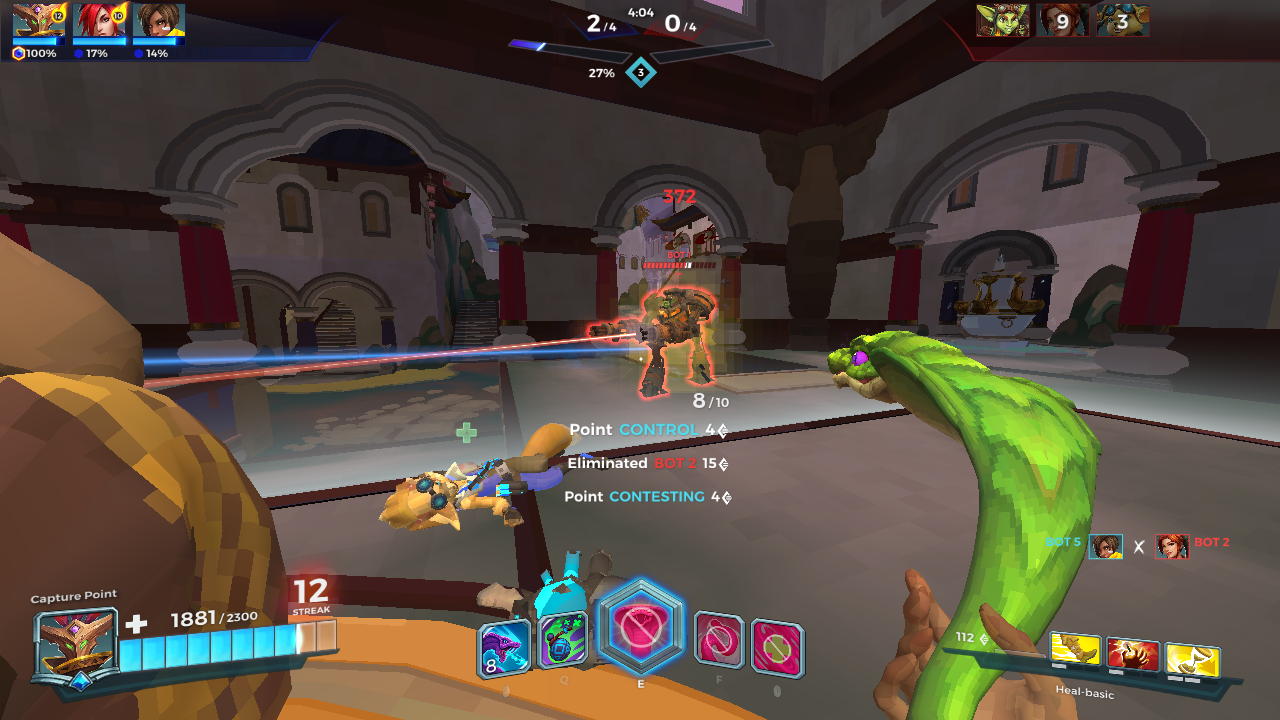model: (613, 275, 723, 410)
